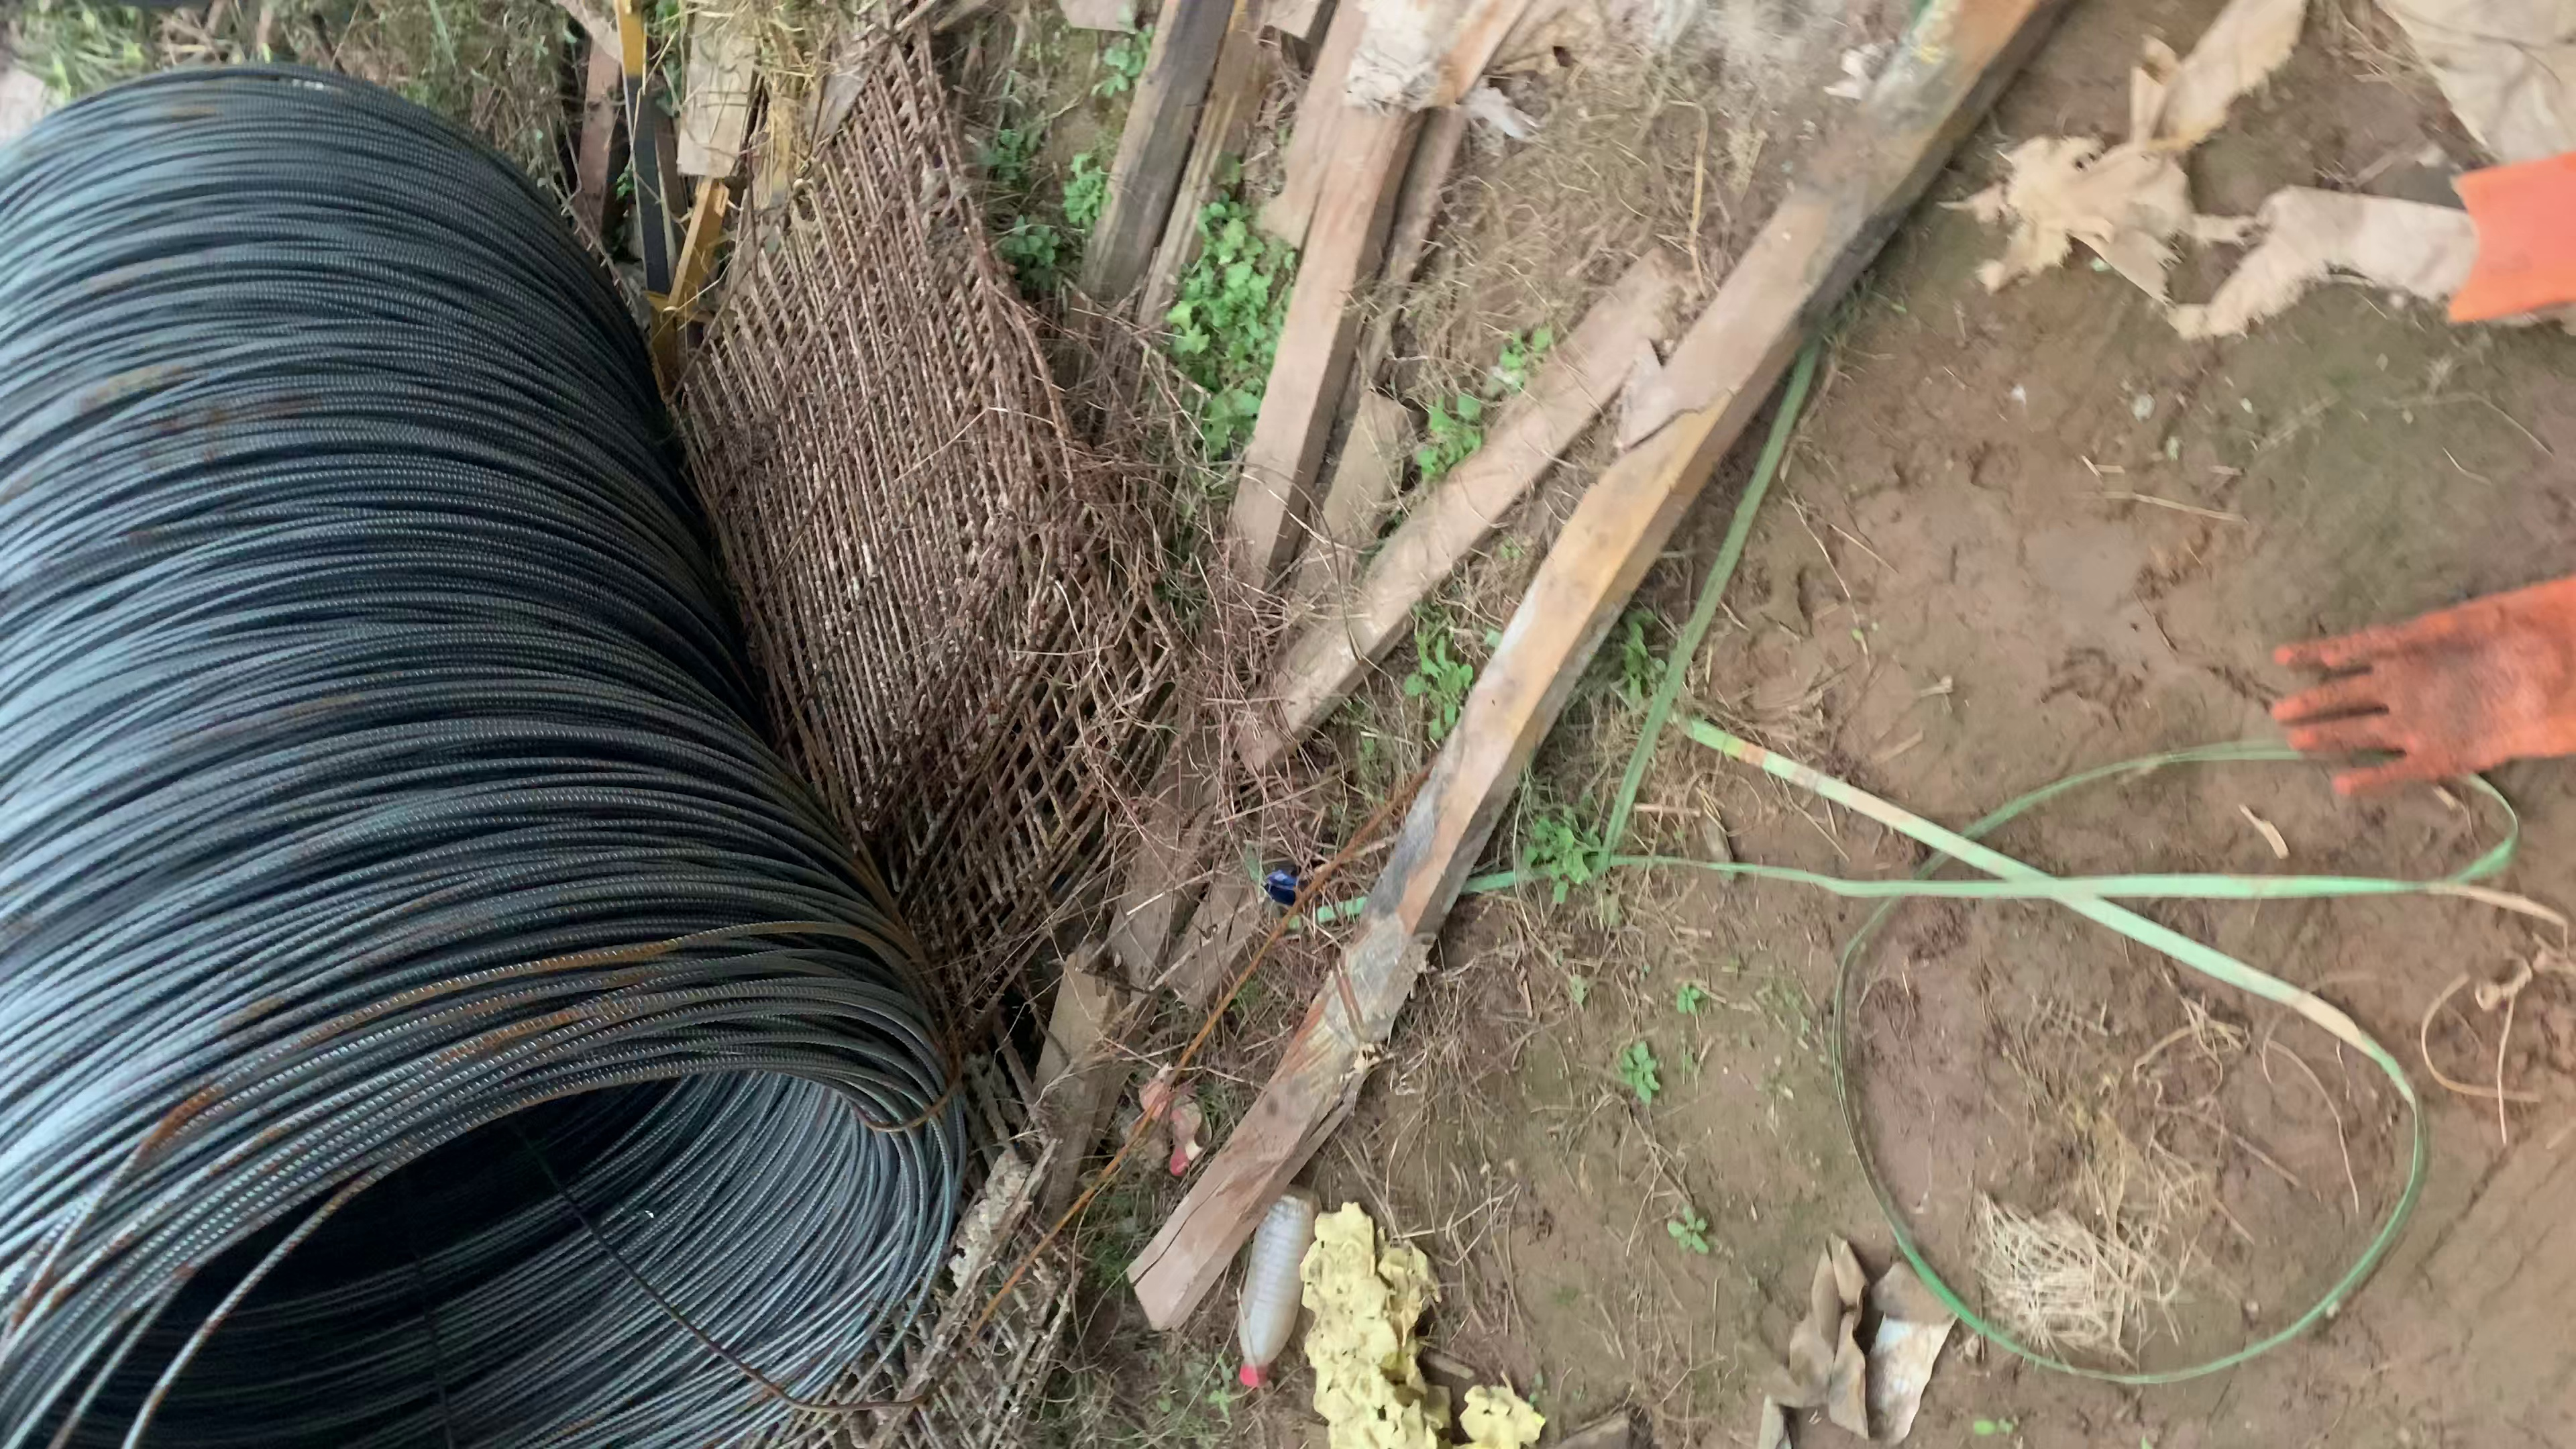coil: (9, 1054, 971, 1438)
